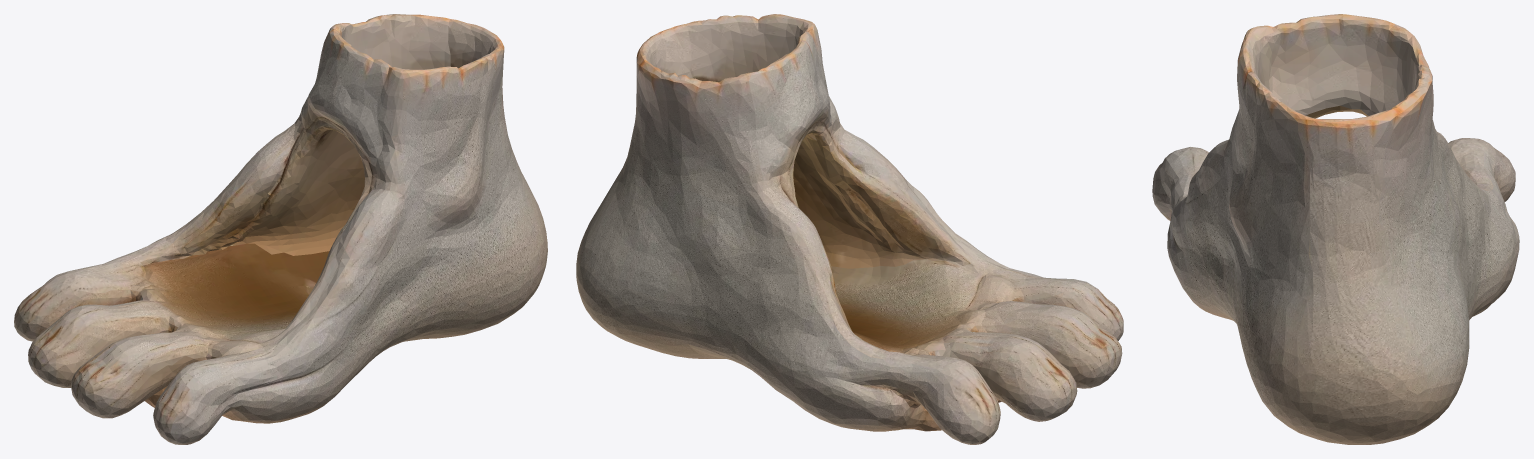
File: foot (14).glb
The picture shows the model from 3 angles, left to right: view 1: azimuth 30°, elevation 25°; view 2: azimuth 150°, elevation 25°; view 3: azimuth 270°, elevation 25°; orthographic projection. The views are drawn at different scales.
Visible parts, largest first — view 1: Hy21_Mesh.obj; view 2: Hy21_Mesh.obj; view 3: Hy21_Mesh.obj.
Part boxes in pixels (x1,y1,x2,y2): Hy21_Mesh.obj: (14, 14, 547, 444); Hy21_Mesh.obj: (576, 14, 1123, 444); Hy21_Mesh.obj: (1152, 14, 1519, 444).
Size of the model in its own units: 1.96 by 1.2 by 1.1.
Materials: 1 (1 with a texture image).
